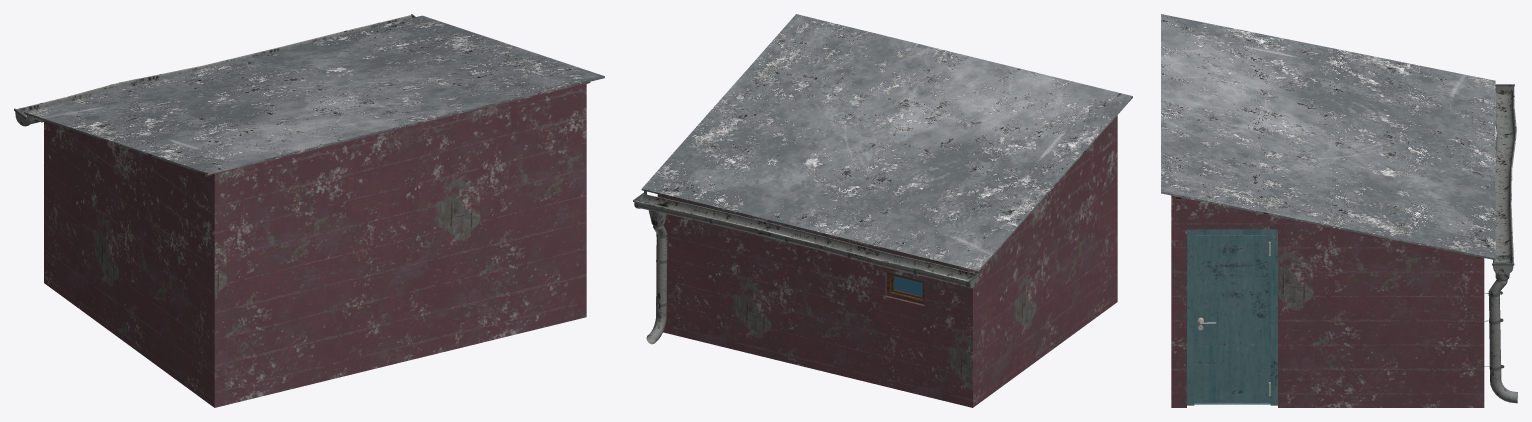
The model's file is barn_sort_of....glb.
The picture shows the model from 3 angles, left to right: view 1: azimuth 30°, elevation 25°; view 2: azimuth 150°, elevation 25°; view 3: azimuth 270°, elevation 25°; orthographic projection. The views are drawn at different scales.
Parts seen in each view (by area): view 1: zid001, crijep001, rina001; view 2: crijep001, zid001, rina001, stolarija_grede001; view 3: crijep001, zid001, stolarija_grede001, rina001.
Part boxes in pixels (box(x1,y1,x2,y2)): zid001: box(44, 83, 586, 407); crijep001: box(25, 15, 604, 174); rina001: box(14, 14, 415, 126); crijep001: box(641, 14, 1132, 272); zid001: box(657, 115, 1117, 407); rina001: box(633, 191, 980, 344); stolarija_grede001: box(886, 272, 924, 304); crijep001: box(1161, 14, 1495, 259); zid001: box(1171, 195, 1484, 407); stolarija_grede001: box(1176, 196, 1481, 405); rina001: box(1484, 84, 1517, 403).
Bounding box in the file's own units: 428 × 249 × 362.
Materials: 4 (4 with a texture image).
